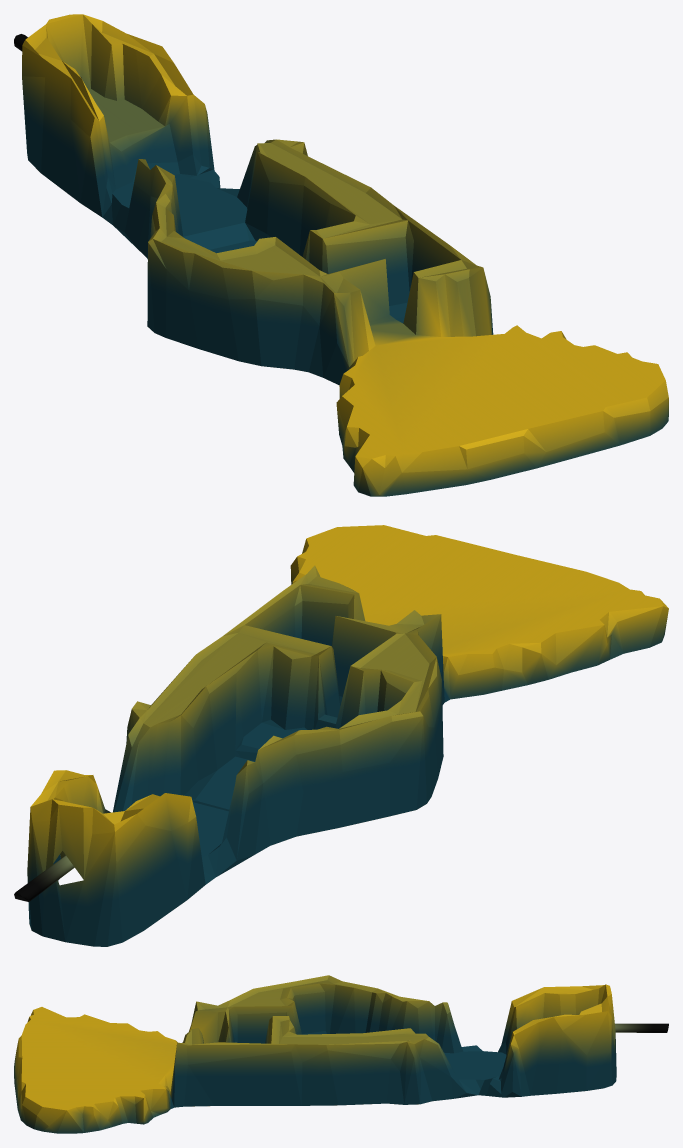
Rendered from MOD_Level6.fbx.
3 views of the same model, one above another, from view 1: azimuth 30°, elevation 25°; view 2: azimuth 150°, elevation 25°; view 3: azimuth 270°, elevation 25° (orthographic). The views are drawn at different scales.
Parts seen in each view (by area): view 1: MOD_Level6; view 2: MOD_Level6; view 3: MOD_Level6.
Part boxes in pixels (x1,y1,x2,y2): MOD_Level6: [14, 14, 668, 496]; MOD_Level6: [14, 525, 668, 946]; MOD_Level6: [14, 975, 668, 1133].
Bounding box in the file's own units: 15.38 × 5.87 × 41.02.
Materials: 2 (2 with a texture image).
